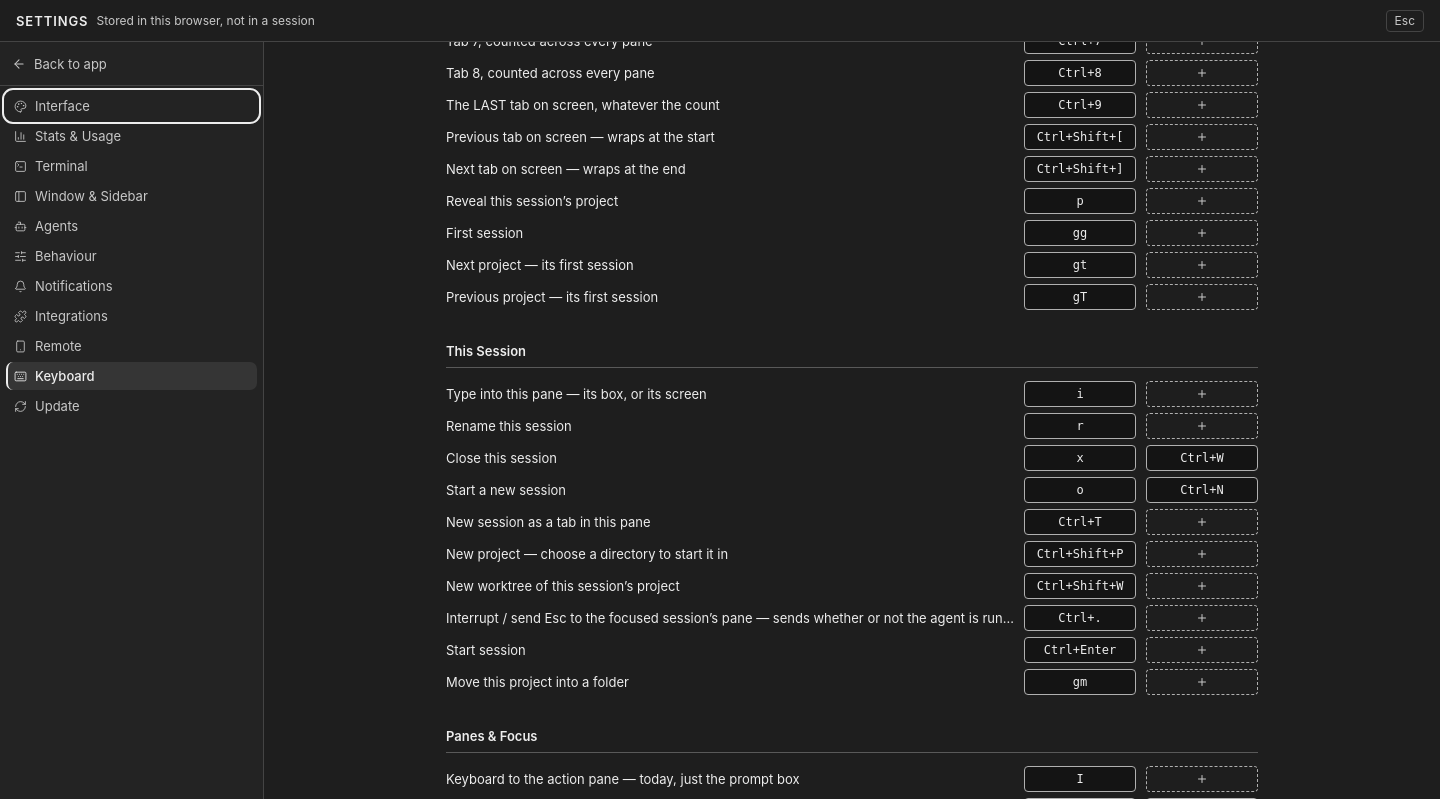
Test: a binding is edited by pressing the key › refuses a reserved key and says which it was
The image size is (1440, 799).
(page scrolled)
Click the button "r" at coordinates (1080, 426), box [1024,413,1136,439]
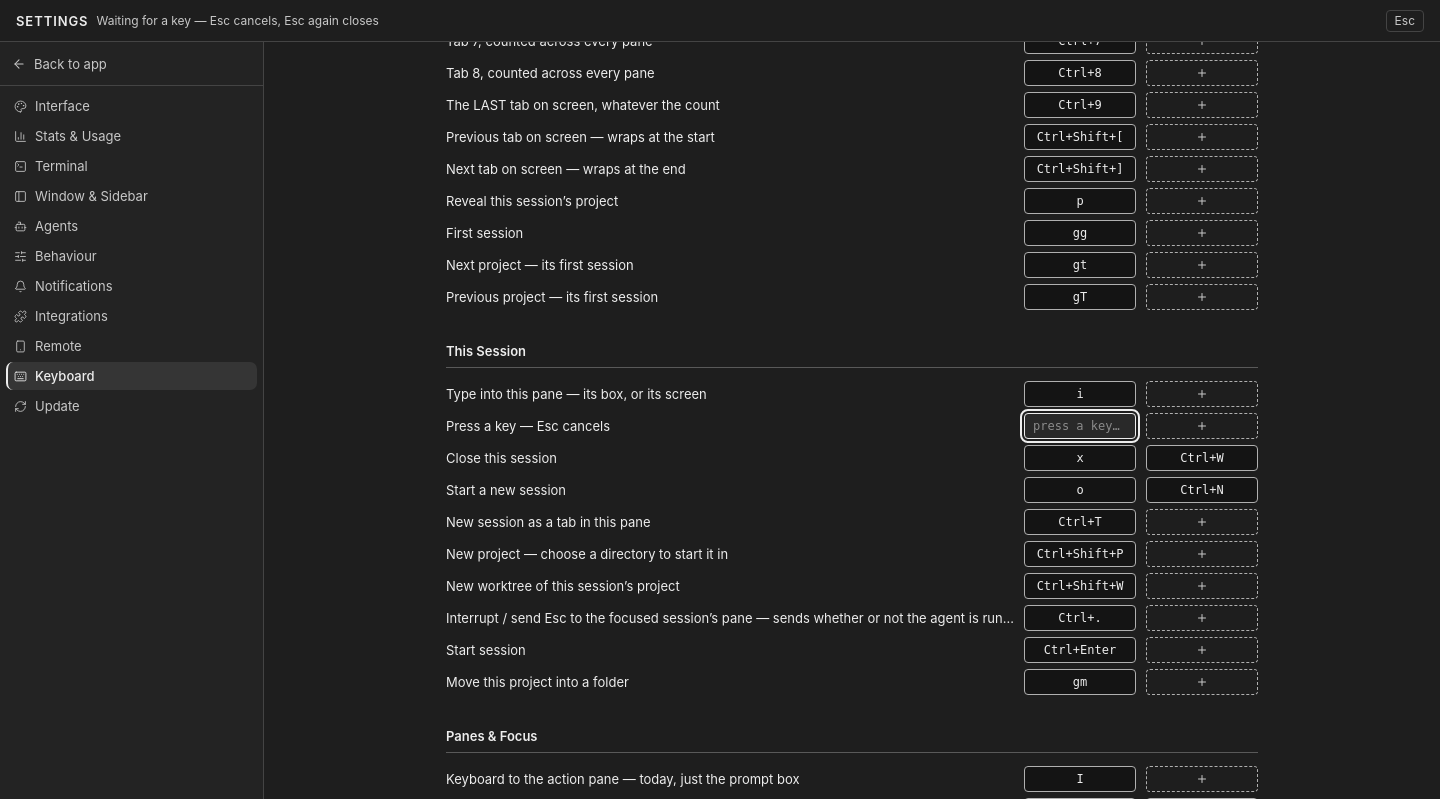
Press g in the field with placeholder "press a key… Esc to cancel", box [1024,413,1136,439]
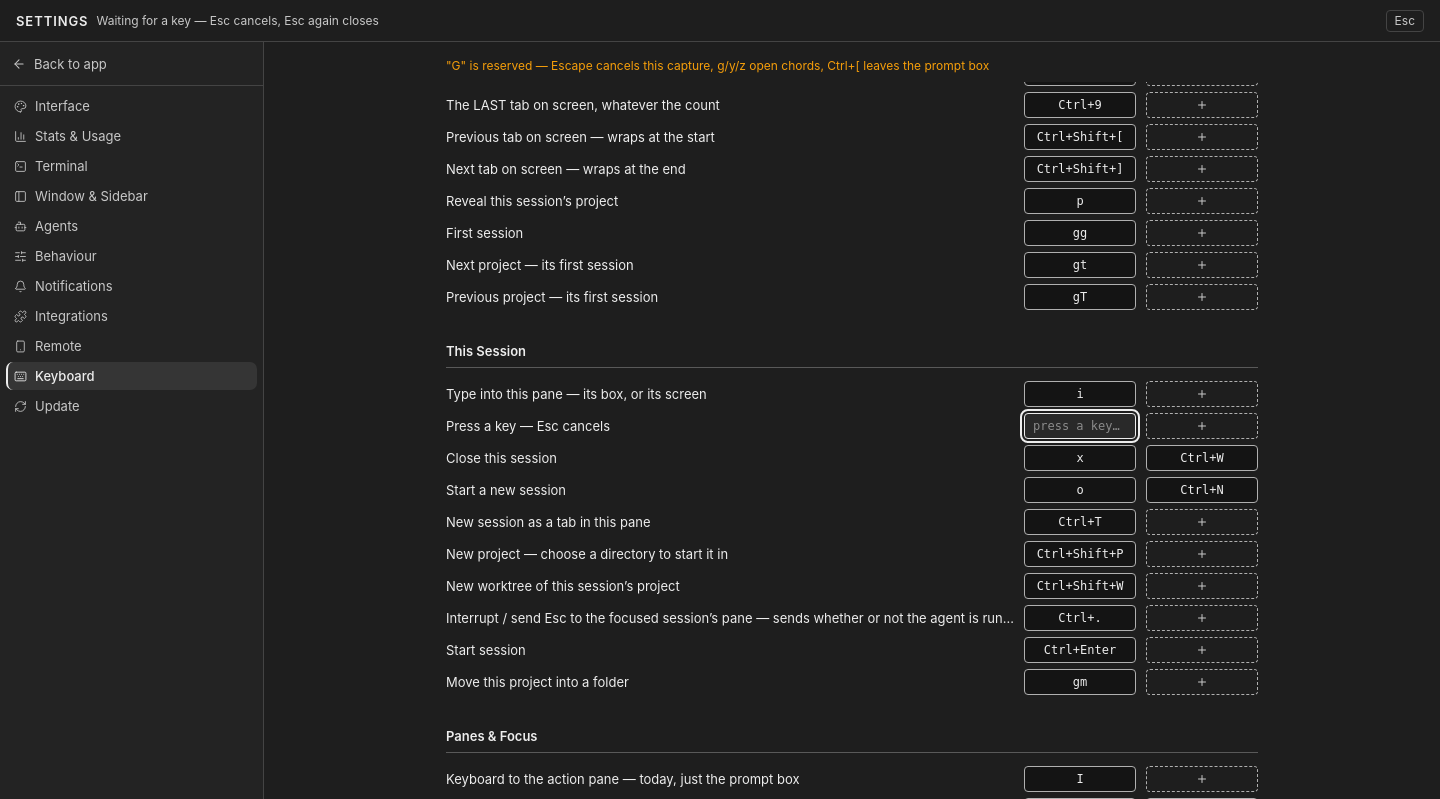
Check: the text "g" is shown, box [446,58,989,73]
